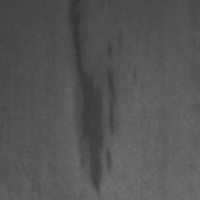inclusion: (70, 16, 123, 200)
